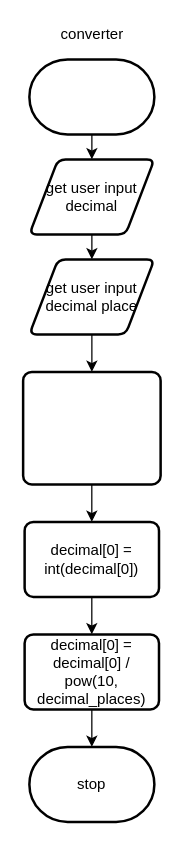
This 183x844 diagram has some shape labels left out. Here are the shapes that lost their labels. From the top down, the centre of each, then its label:
At (91,96): "start".
At (91,427): "decimal[0] = decimal[0] * pow(10, decimal_places) + 0.5".
